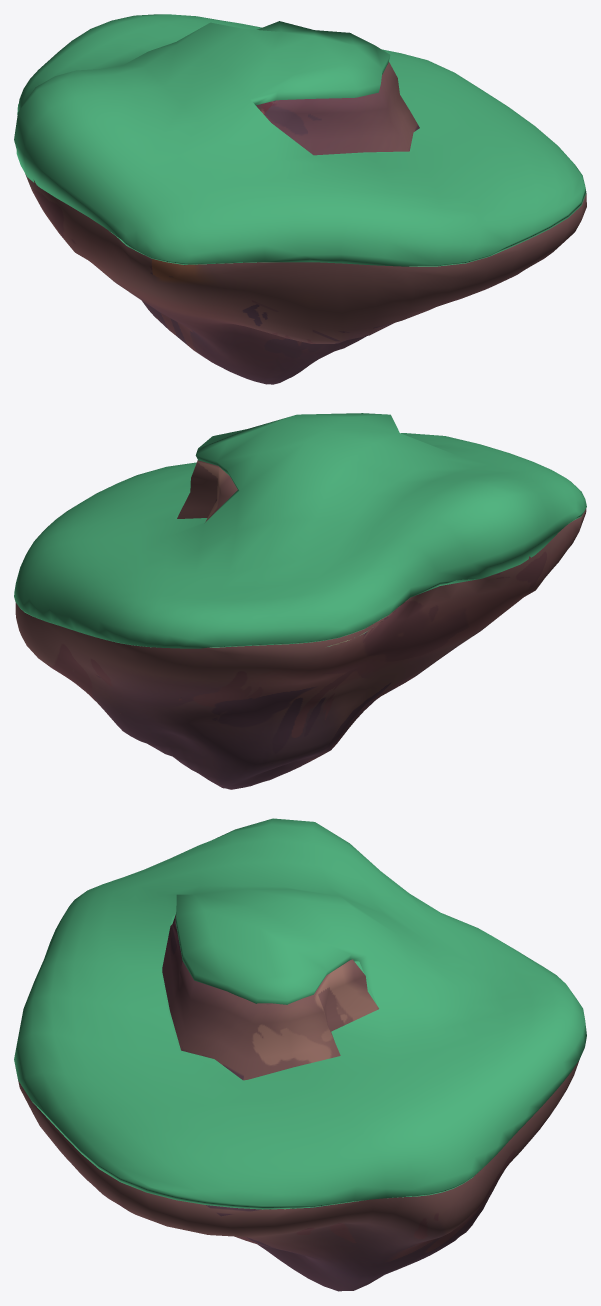
The model's file is new_island.glb.
3 renders of one model, top to bottom at view 1: azimuth 30°, elevation 25°; view 2: azimuth 150°, elevation 25°; view 3: azimuth 270°, elevation 25°, orthographic. The views are drawn at different scales.
Parts seen in each view (by area): view 1: Ground, Ground.001; view 2: Ground, Ground.001; view 3: Ground, Ground.001.
Boxes of the visible parts, bbox=[...] form: Ground: bbox=[14, 14, 586, 266]; Ground.001: bbox=[25, 62, 586, 384]; Ground: bbox=[14, 413, 586, 648]; Ground.001: bbox=[15, 460, 586, 789]; Ground: bbox=[14, 818, 586, 1209]; Ground.001: bbox=[18, 914, 579, 1291].
Size of the model in its own units: 3.33 by 2.29 by 3.26.
Materials: 2 (1 with a texture image).
